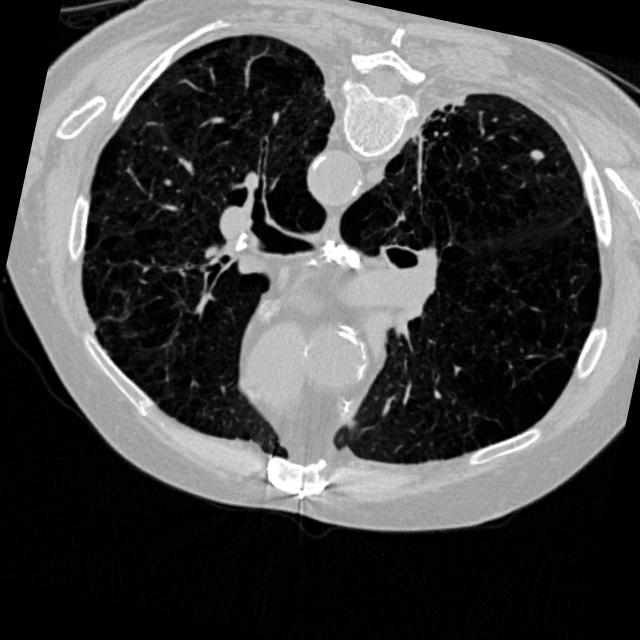nodule: (522, 139, 554, 172)
